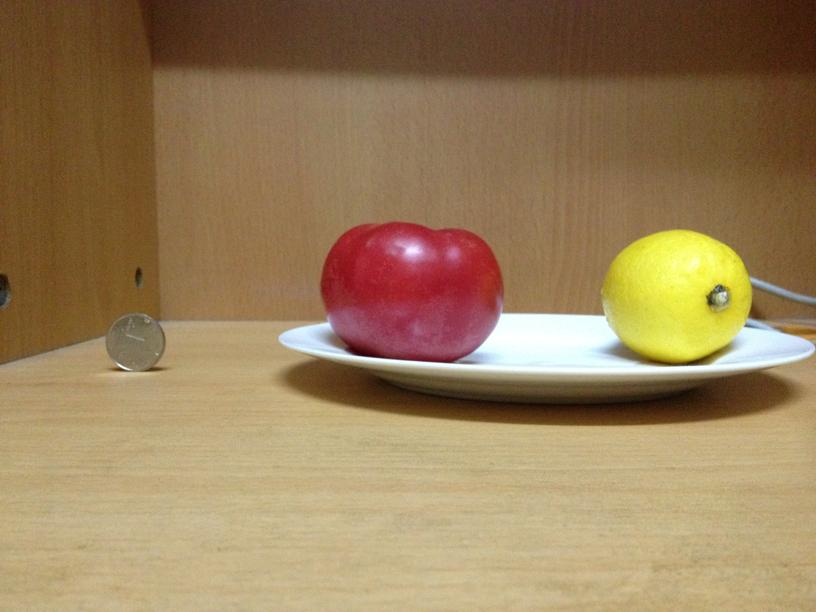coin: (106, 313, 165, 371)
lemon: (604, 230, 751, 364)
tomato: (319, 219, 505, 362)
